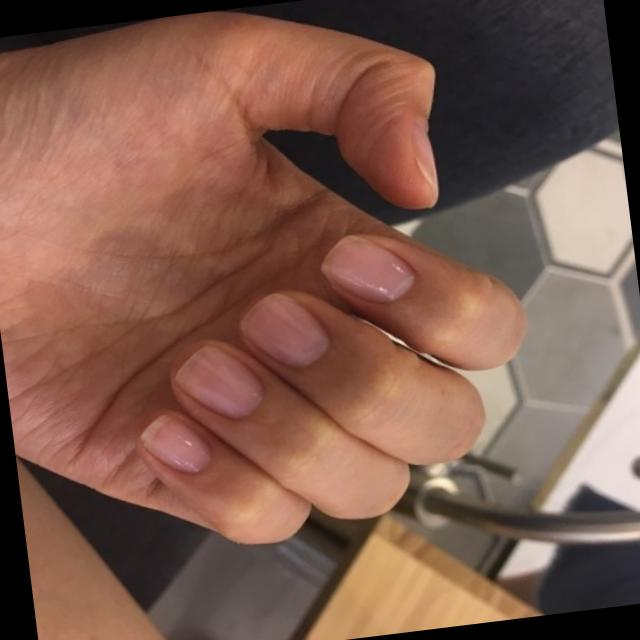Nail: (176, 344, 261, 418), (241, 293, 327, 366), (322, 234, 414, 302), (140, 413, 209, 473)
